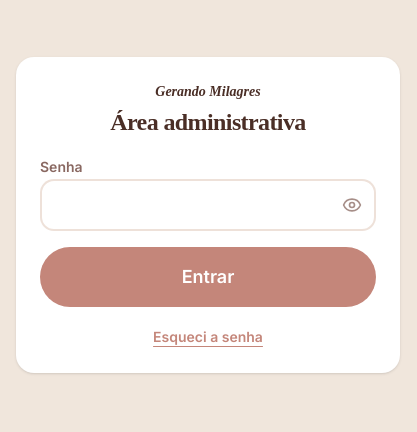
Scenario: AdminPage › 'Esqueci a senha' mostra a orientação de contato com o suporte
The width and height of the screenshot is (417, 432).
Check: the text "suporte técnico" is not shown
Step 1. Click the button "Esqueci a senha" → x=208, y=337, box [153,327,263,347]
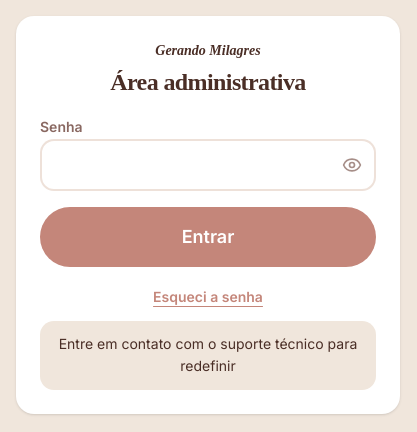
Check: the message reads "Entre em contato com o suporte técnico para redefinir", box [59,335,357,374]
